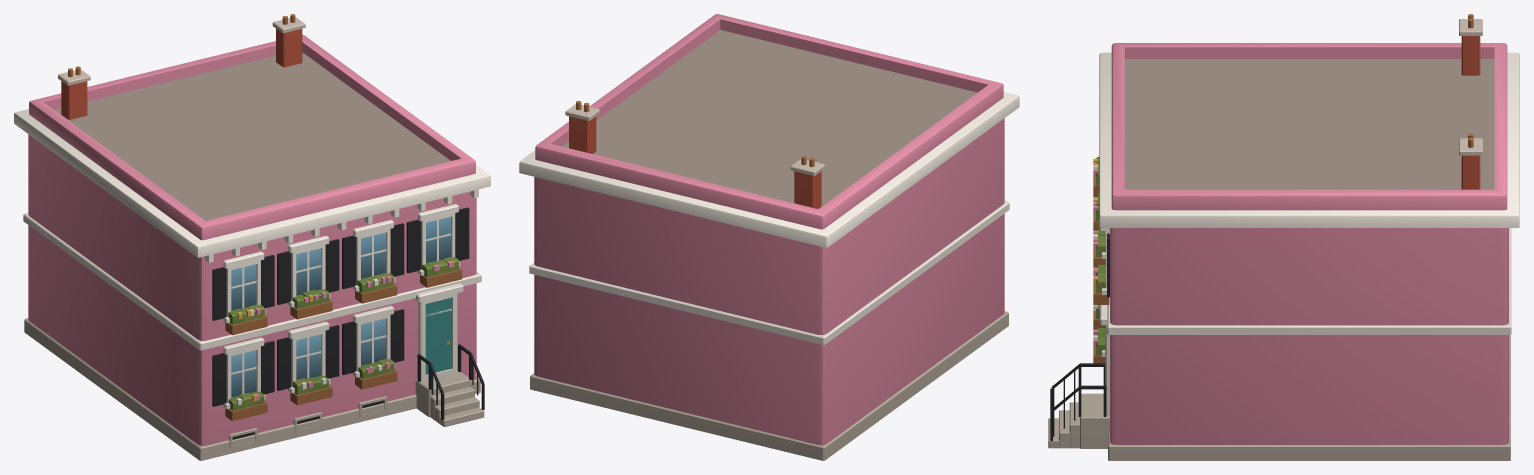
Rendered from beacon_n6.glb.
The picture shows the model from 3 angles, left to right: view 1: azimuth 30°, elevation 25°; view 2: azimuth 150°, elevation 25°; view 3: azimuth 270°, elevation 25°; orthographic projection. The views are drawn at different scales.
Visible parts, largest first — view 1: beacon_n6; view 2: beacon_n6; view 3: beacon_n6.
Boxes of the visible parts, x1=… form: beacon_n6: x1=14, y1=14, x2=490, y2=460; beacon_n6: x1=519, y1=14, x2=1019, y2=460; beacon_n6: x1=1048, y1=14, x2=1519, y2=460.
Bounding box in the file's own units: 11.64 × 10.14 × 14.18.
1 material, 1 textured.
